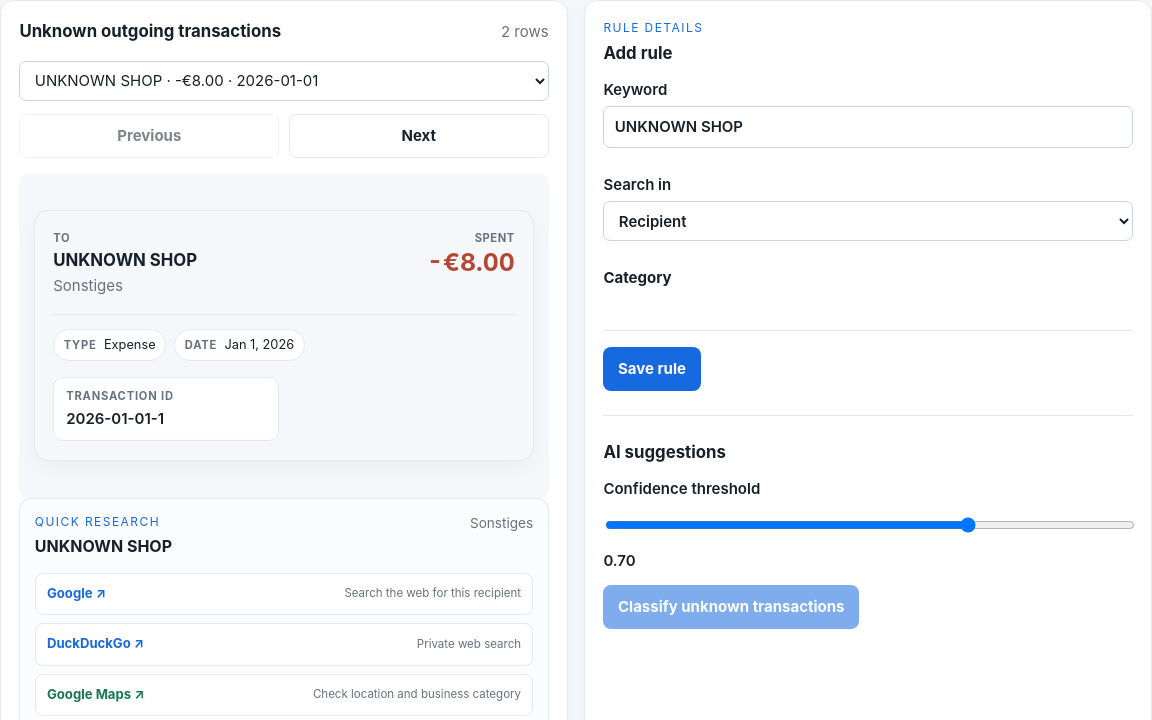
Test: categorize unknown › moves through unknown transactions with previous and next buttons
Expected: the field labelled "Keyword" holds "UNKNOWN SHOP", [603, 106, 1133, 148]
Expected: the button with aria-label "Previous unknown transaction" is disabled, [19, 114, 279, 158]
Click the button with aria-label "Next unknown transaction": (419, 136) [289, 114, 549, 158]
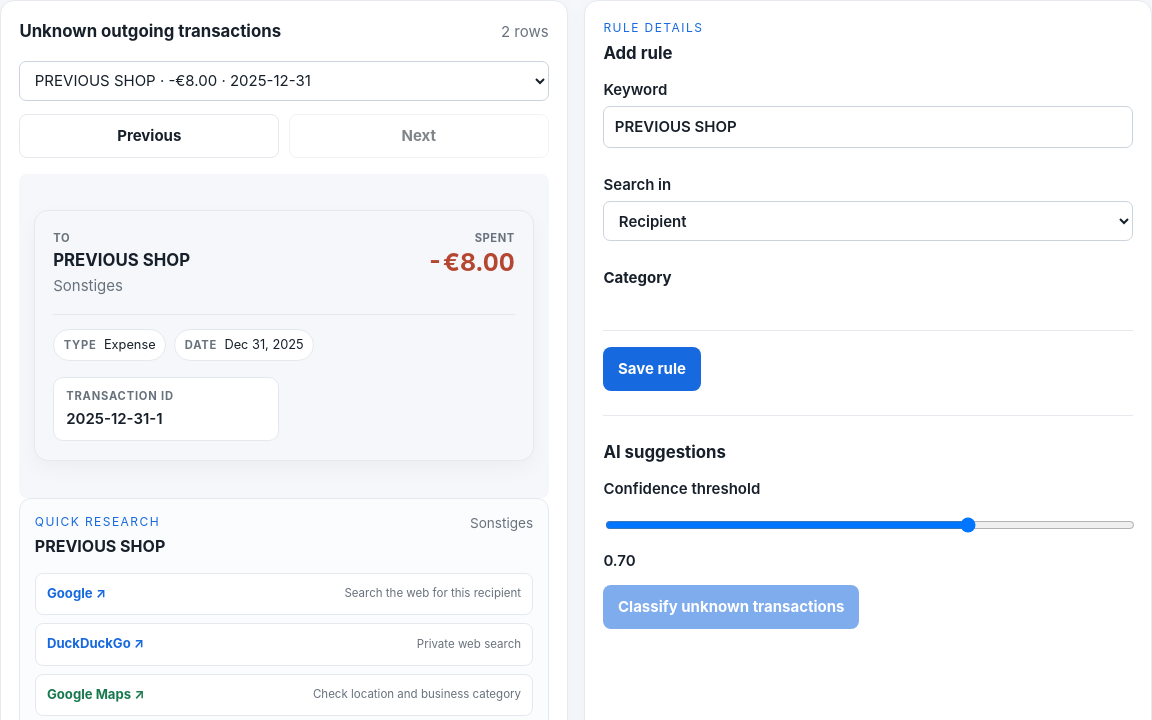
Now the field labelled "Keyword" holds "PREVIOUS SHOP", box [603, 106, 1133, 148]
Now the button with aria-label "Previous unknown transaction" is enabled
Now the button with aria-label "Next unknown transaction" is disabled, box [289, 114, 549, 158]
Click the button with aria-label "Previous unknown transaction": (149, 136) [19, 114, 279, 158]
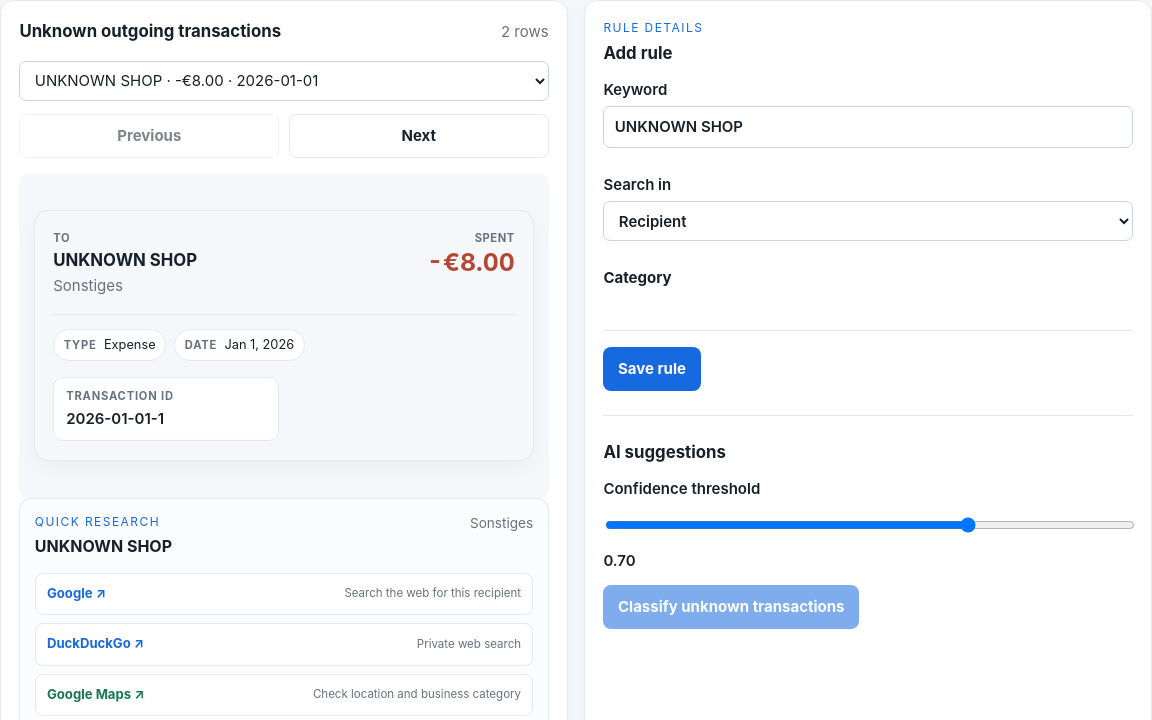
Now the field labelled "Keyword" holds "UNKNOWN SHOP", box [603, 106, 1133, 148]
